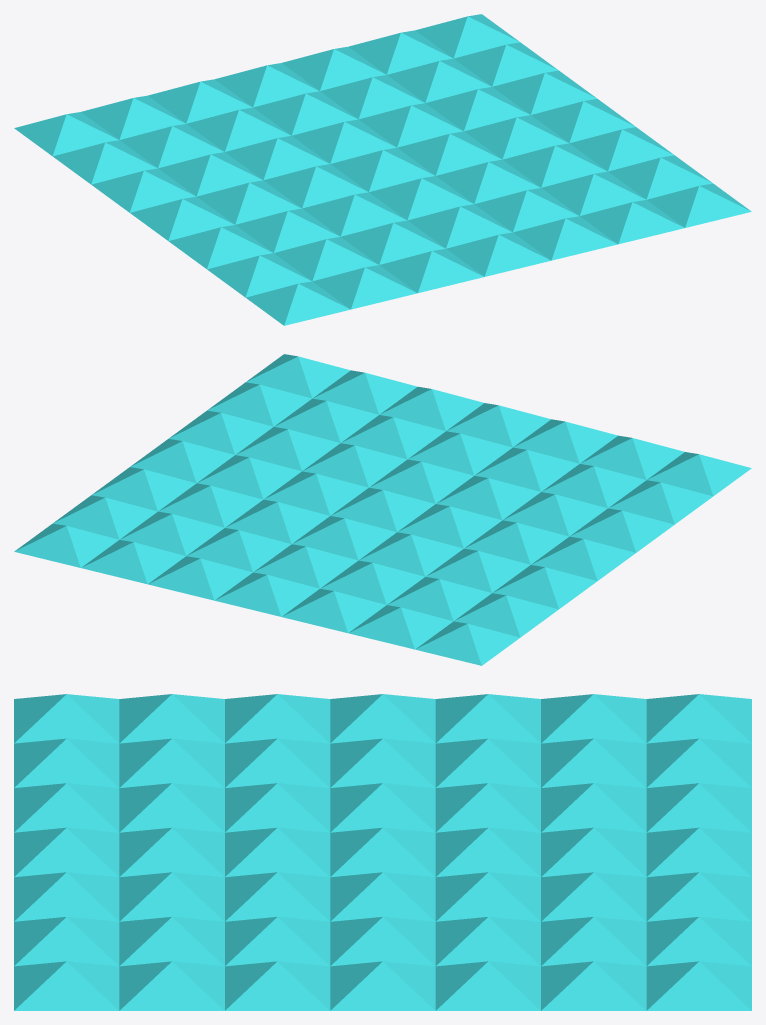
The model's file is Floor_07.fbx.
3 views of the same model, one above another, from view 1: azimuth 30°, elevation 25°; view 2: azimuth 150°, elevation 25°; view 3: azimuth 270°, elevation 25° (orthographic). The views are drawn at different scales.
Visible parts, largest first — view 1: Floor_07; view 2: Floor_07; view 3: Floor_07.
Part boxes in pixels (left/top/right/bottom): Floor_07: left=14, top=14, right=751, bottom=325; Floor_07: left=14, top=354, right=751, bottom=665; Floor_07: left=14, top=694, right=751, bottom=1010.
Bounding box in the file's own units: 457 × 18.66 × 457.
